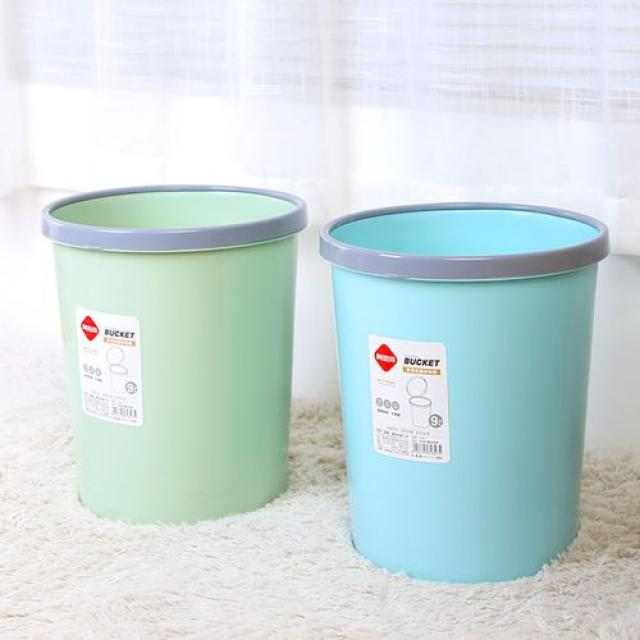dustbin: (314, 202, 617, 582), (31, 177, 316, 538)
